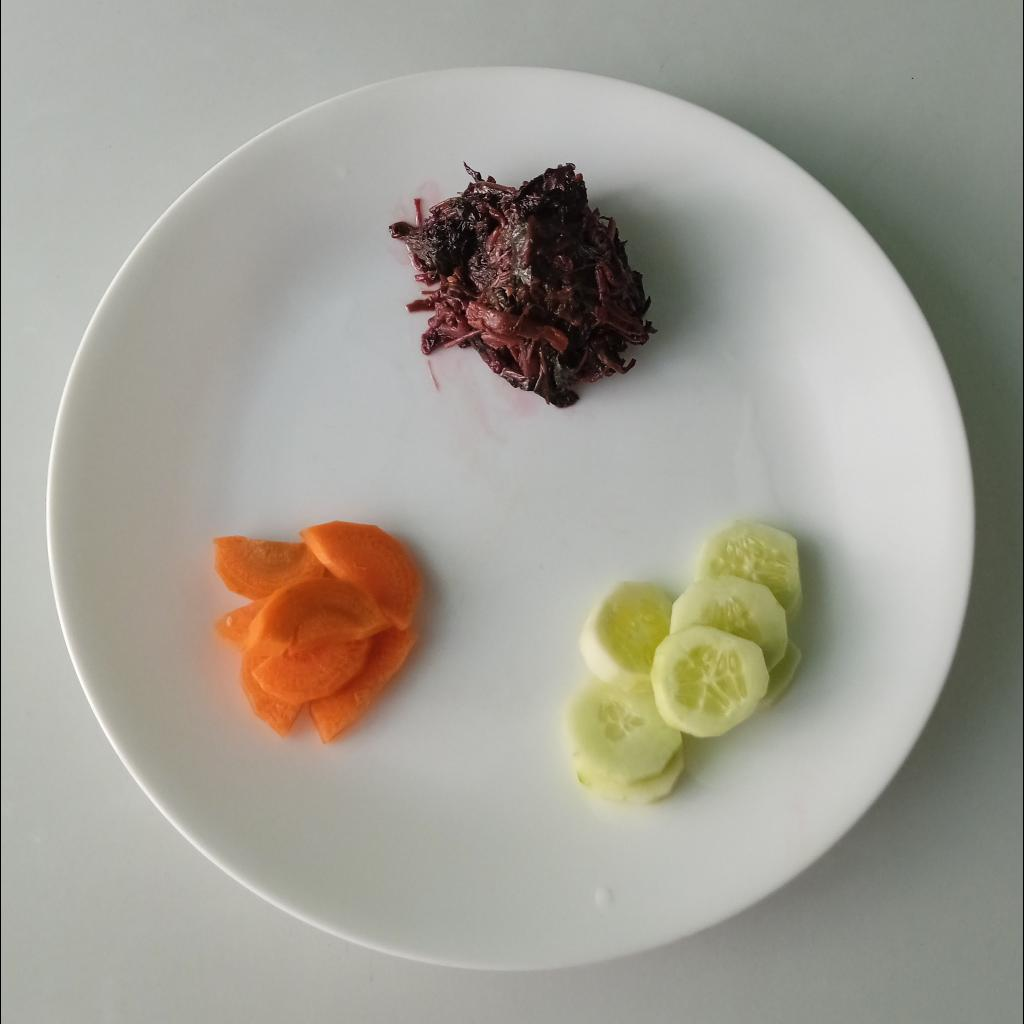carrot: (209, 522, 423, 741)
cucumber: (561, 514, 812, 806)
shak: (385, 154, 662, 407)
